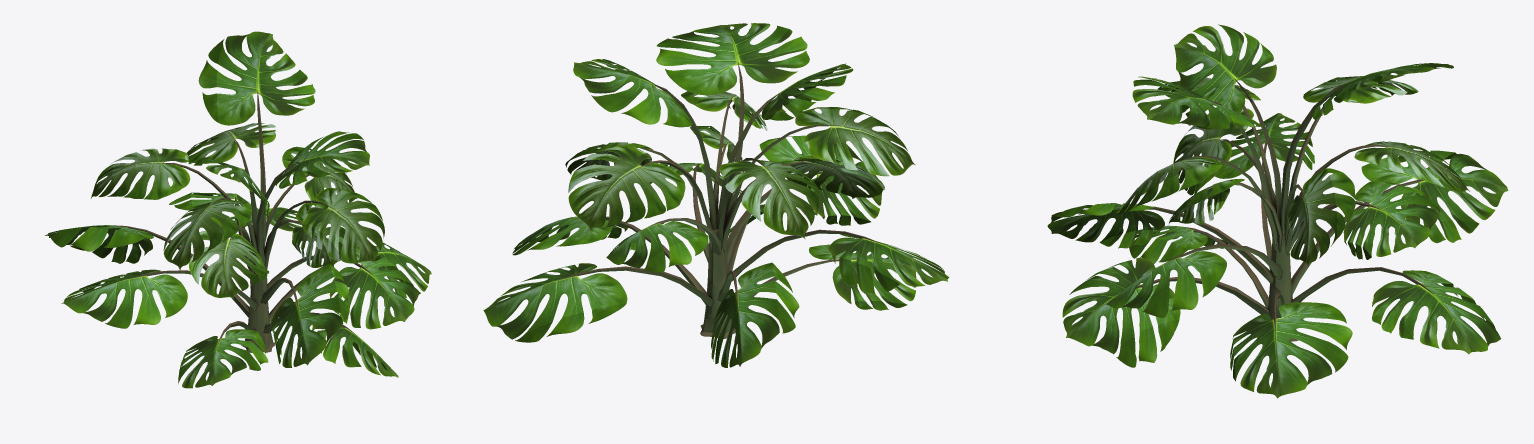
File: monstera_0.glb
The picture shows the model from 3 angles, left to right: view 1: azimuth 30°, elevation 25°; view 2: azimuth 150°, elevation 25°; view 3: azimuth 270°, elevation 25°; orthographic projection. The views are drawn at different scales.
Parts seen in each view (by area): view 1: tree.006SM_MZRa_Monstera_B071_MI_MZRa_Monstera_B07a1_0, tree.006SM_MZRa_Monstera_B071_MI_MZRa_Monstera_B07a2_0, tree.006SM_MZRa_Monstera_B071_MI_MZRa_Monstera_B07b_0; view 2: tree.006SM_MZRa_Monstera_B071_MI_MZRa_Monstera_B07a1_0, tree.006SM_MZRa_Monstera_B071_MI_MZRa_Monstera_B07a2_0, tree.006SM_MZRa_Monstera_B071_MI_MZRa_Monstera_B07b_0; view 3: tree.006SM_MZRa_Monstera_B071_MI_MZRa_Monstera_B07a1_0, tree.006SM_MZRa_Monstera_B071_MI_MZRa_Monstera_B07a2_0, tree.006SM_MZRa_Monstera_B071_MI_MZRa_Monstera_B07b_0.
Boxes of the visible parts, x1,y1,x2,y2 form: tree.006SM_MZRa_Monstera_B071_MI_MZRa_Monstera_B07a1_0: (45, 31, 431, 388); tree.006SM_MZRa_Monstera_B071_MI_MZRa_Monstera_B07a2_0: (91, 123, 384, 299); tree.006SM_MZRa_Monstera_B071_MI_MZRa_Monstera_B07b_0: (108, 90, 387, 352); tree.006SM_MZRa_Monstera_B071_MI_MZRa_Monstera_B07a1_0: (483, 23, 949, 367); tree.006SM_MZRa_Monstera_B071_MI_MZRa_Monstera_B07a2_0: (565, 91, 915, 239); tree.006SM_MZRa_Monstera_B071_MI_MZRa_Monstera_B07b_0: (554, 62, 882, 338); tree.006SM_MZRa_Monstera_B071_MI_MZRa_Monstera_B07a1_0: (1047, 24, 1508, 398); tree.006SM_MZRa_Monstera_B071_MI_MZRa_Monstera_B07a2_0: (1116, 76, 1470, 266); tree.006SM_MZRa_Monstera_B071_MI_MZRa_Monstera_B07b_0: (1113, 78, 1437, 341).
Size of the model in its own units: 3.47 by 2.47 by 3.26.
3 materials, 3 textured.
